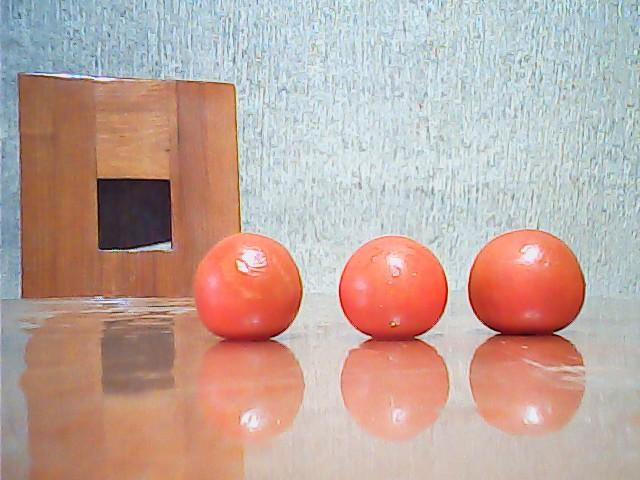maduro: (465, 228, 588, 335), (196, 231, 302, 341), (338, 236, 447, 340)
